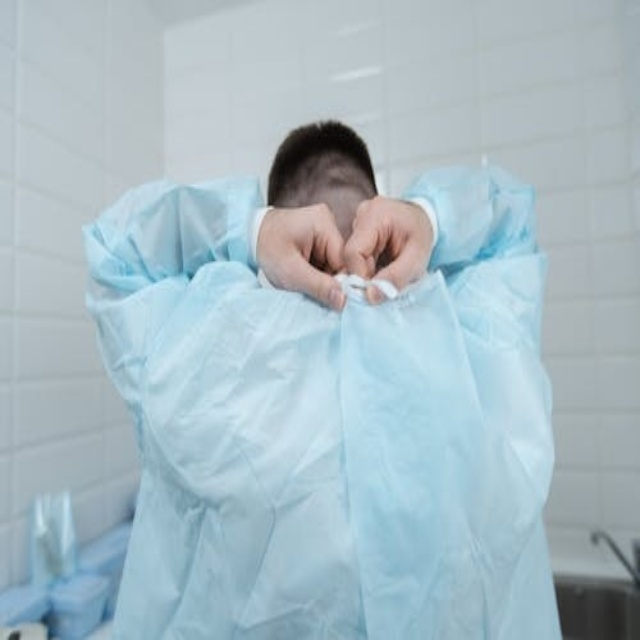Sin_guantes: (250, 200, 355, 312), (343, 193, 440, 303)
